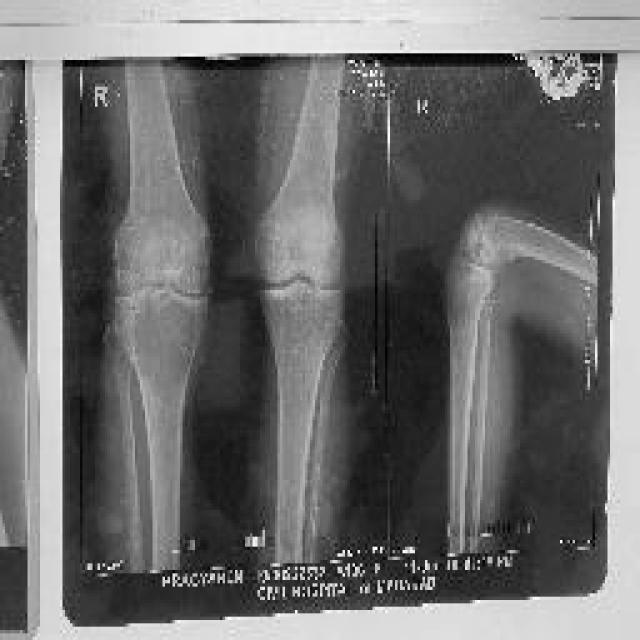bone-cancer: (134, 292, 195, 392), (448, 237, 495, 346)
